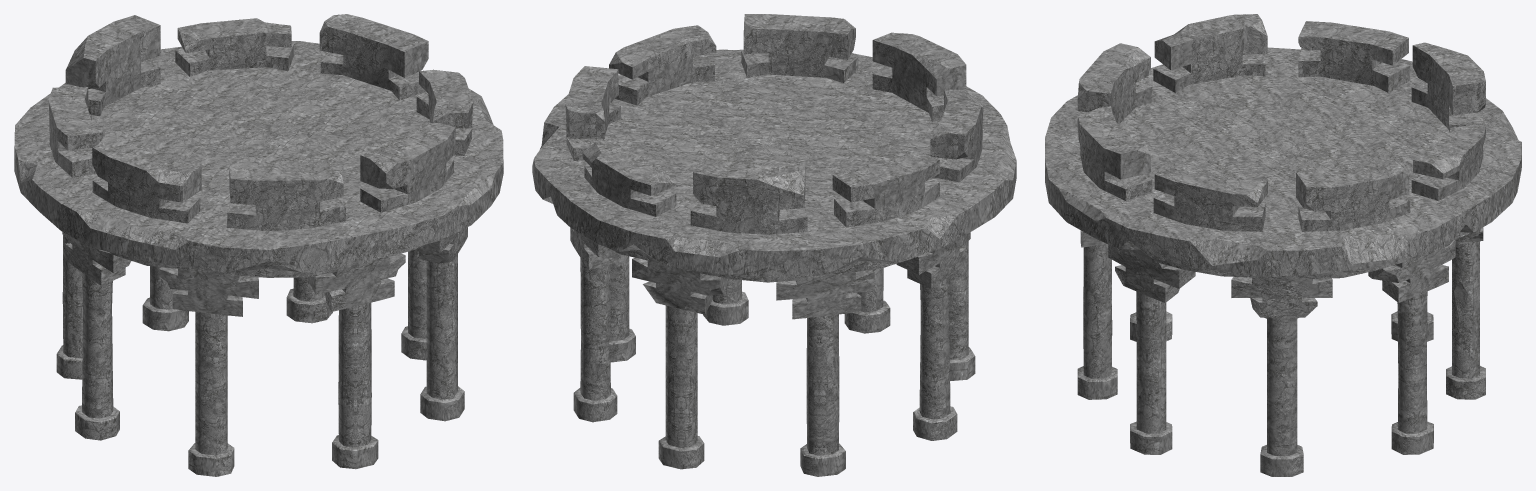
Rendered from materials_3_building_5.fbx.
3 renders of one model, left to right at view 1: azimuth 30°, elevation 25°; view 2: azimuth 150°, elevation 25°; view 3: azimuth 270°, elevation 25°, orthographic. The views are drawn at different scales.
Parts seen in each view (by area): view 1: materials_3_building_5; view 2: materials_3_building_5; view 3: materials_3_building_5.
Boxes of the visible parts, x1,y1,x2,y2 form: materials_3_building_5: (14, 14, 503, 476); materials_3_building_5: (532, 14, 1016, 476); materials_3_building_5: (1045, 14, 1521, 476).
Bounding box in the file's own units: 598 × 409 × 592.
